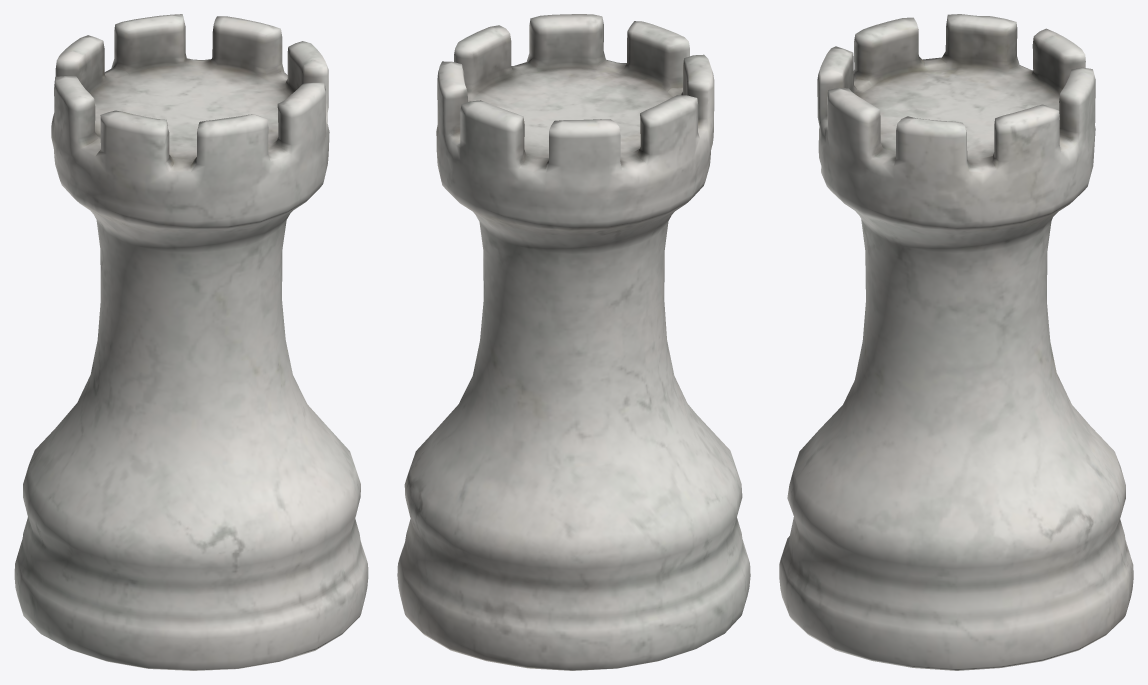
File: rook.gltf
3 renders of one model, left to right at view 1: azimuth 30°, elevation 25°; view 2: azimuth 150°, elevation 25°; view 3: azimuth 270°, elevation 25°, orthographic.
Parts seen in each view (by area): view 1: rook; view 2: rook; view 3: rook.
Part boxes in pixels (box(x1,y1,x2,y2)): rook: box(14, 14, 368, 670); rook: box(397, 14, 750, 670); rook: box(779, 14, 1133, 670).
Bounding box in the file's own units: 0.367 × 0.6057 × 0.3676.
1 material, 1 textured.
